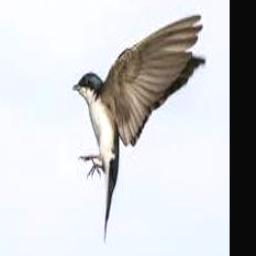Swallow: (74, 14, 207, 243)
